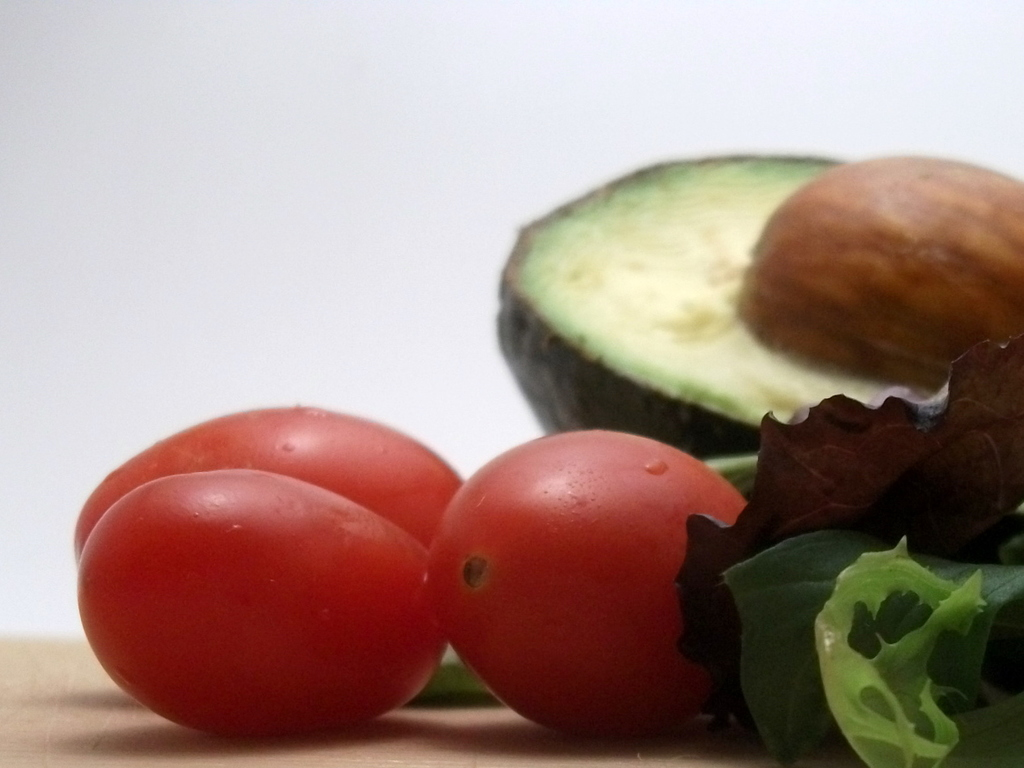Tomato: (74, 399, 469, 699), (408, 428, 756, 739), (73, 469, 449, 740)
